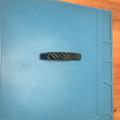gear: (39, 50, 82, 62)
